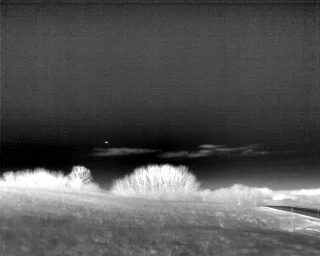AIRPLANE: (103, 139, 110, 145)
